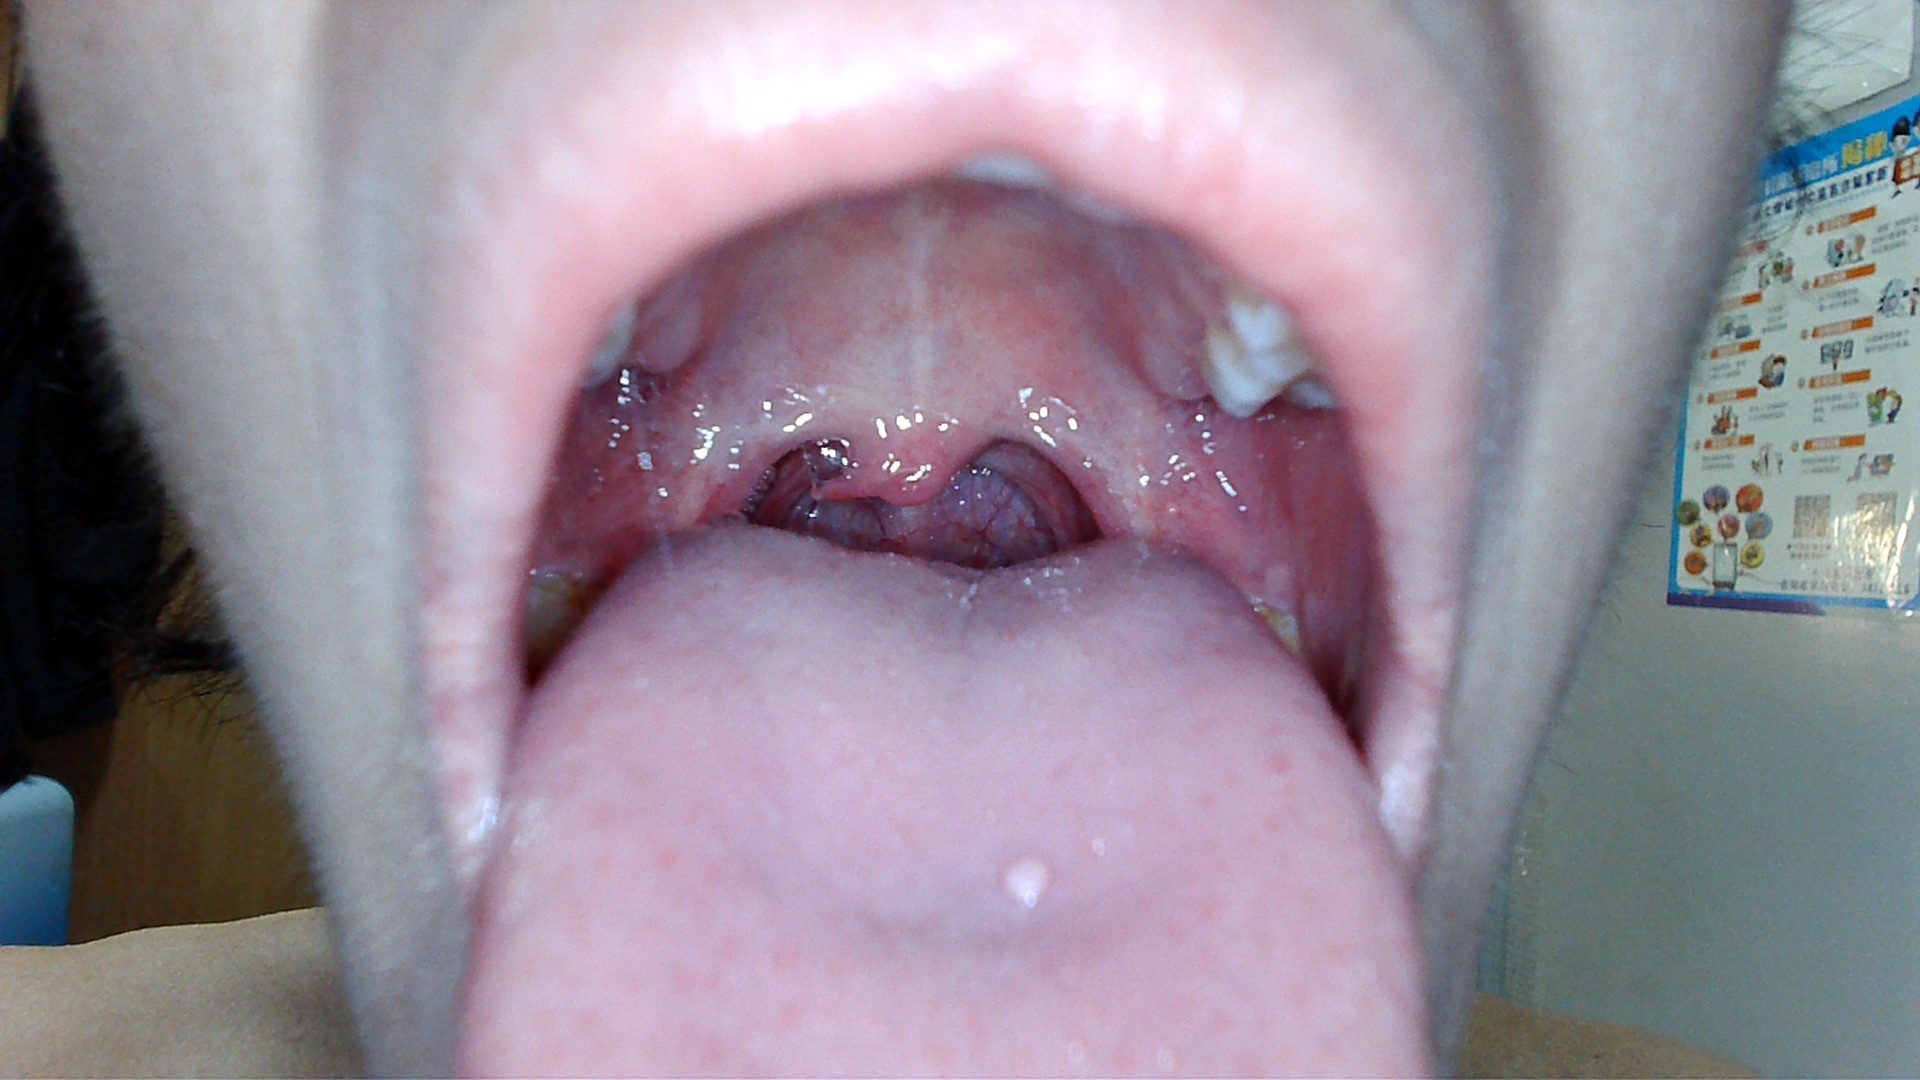throat: (1054, 400, 1158, 535), (682, 396, 766, 520)
